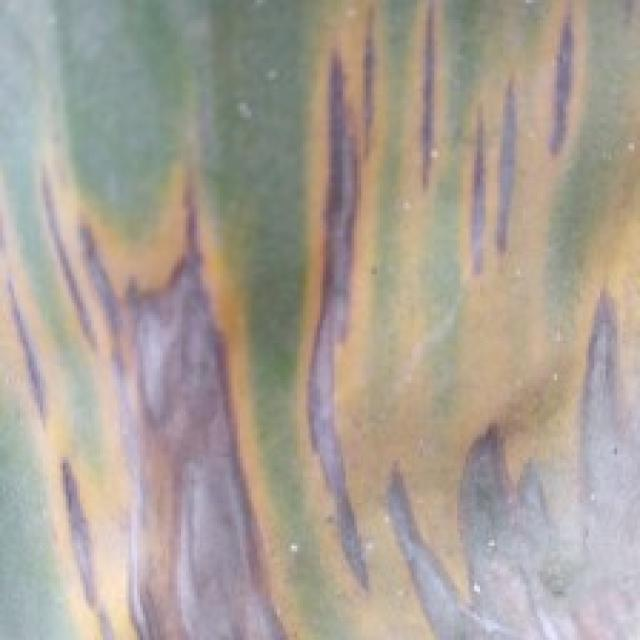Early_leaf_spot: (291, 0, 640, 640), (0, 131, 301, 640)
